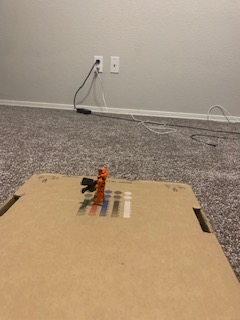soldier: (79, 166, 111, 209)
